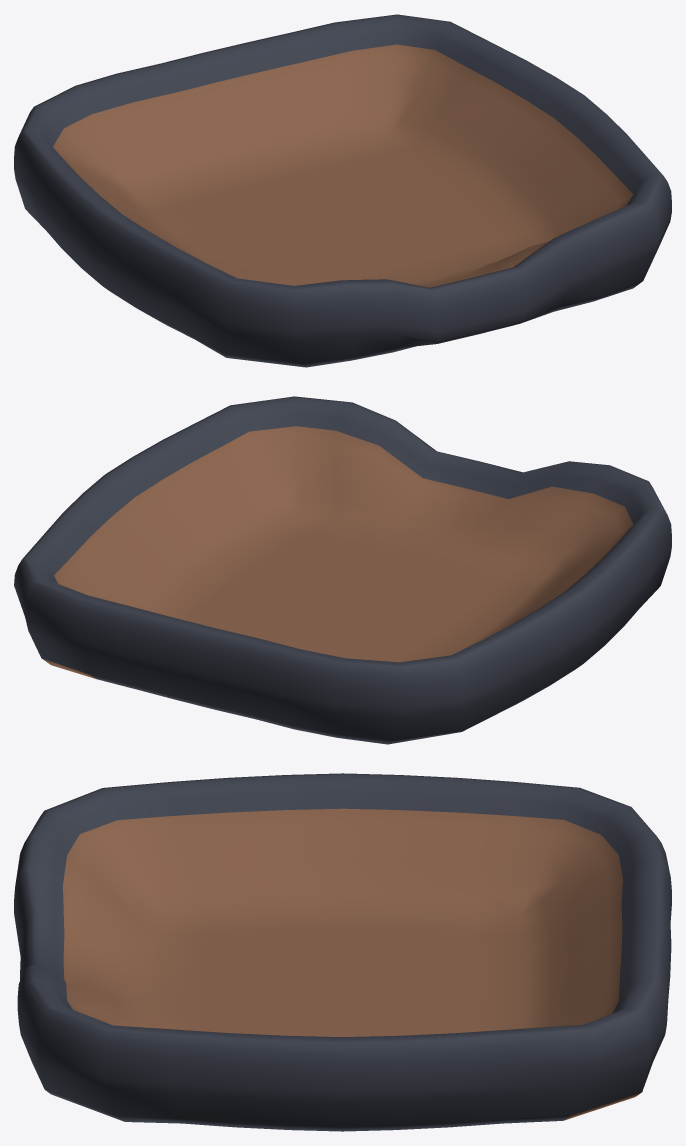
Rendered from Dog_Bed.fbx.
3 views of the same model, one above another, from view 1: azimuth 30°, elevation 25°; view 2: azimuth 150°, elevation 25°; view 3: azimuth 270°, elevation 25° (orthographic). The views are drawn at different scales.
Parts seen in each view (by area): view 1: pPlane1; view 2: pPlane1; view 3: pPlane1.
Part boxes in pixels (x1,y1,x2,y2): pPlane1: [14, 14, 671, 367]; pPlane1: [14, 396, 671, 744]; pPlane1: [14, 773, 671, 1131].
Size of the model in its own units: 12.34 by 1.97 by 12.26.
